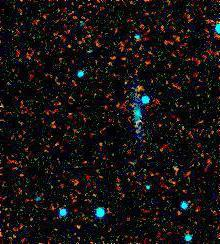star: (126, 73, 156, 103)
